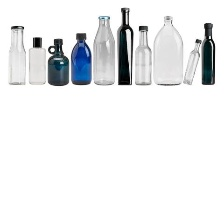bottle: (152, 9, 185, 89), (91, 10, 118, 89), (114, 5, 135, 88), (2, 20, 26, 86), (197, 18, 217, 92), (69, 29, 92, 87), (132, 22, 152, 88), (46, 32, 69, 87), (28, 34, 48, 87), (183, 33, 201, 90)
